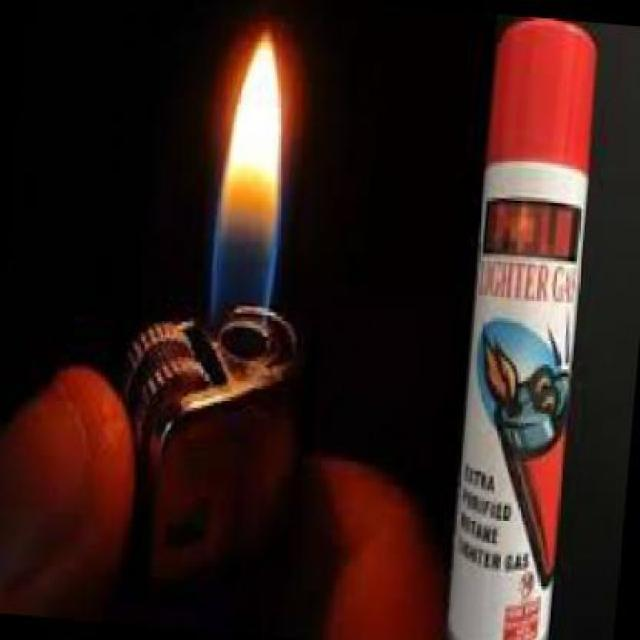Fire: (214, 19, 294, 326)
